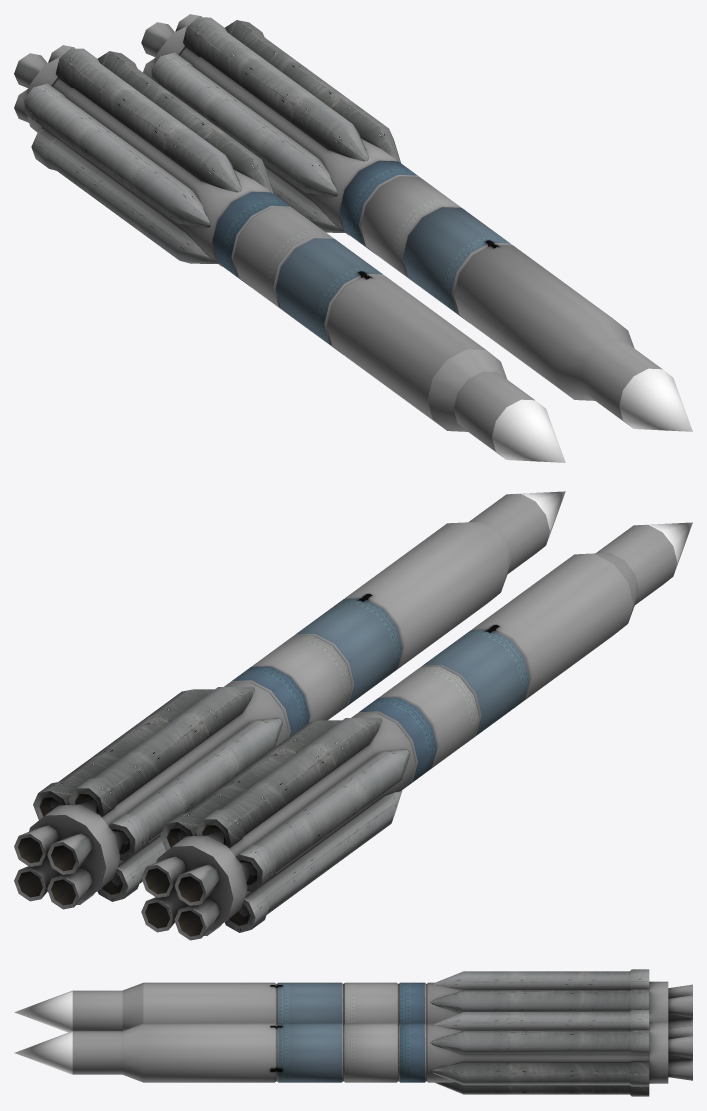
File: rocket.fbx
3 renders of one model, top to bottom at view 1: azimuth 30°, elevation 25°; view 2: azimuth 150°, elevation 25°; view 3: azimuth 270°, elevation 25°, orthographic. The views are drawn at different scales.
Visible parts, largest first — view 1: rocket, rocket.002, rocket.011, rocket.010, rocket.008, rocket.003, rocket.005, rocket.006, rocket.004, rocket.007, rocket.009; view 2: rocket, rocket.002, rocket.010, rocket.011, rocket.008, rocket.009, rocket.005, rocket.006, rocket.003, rocket.007; view 3: rocket, rocket.011, rocket.010, rocket.003, rocket.005, rocket.008, rocket.006, rocket.007, rocket.009, rocket.004.
Boxes of the visible parts, x1,y1,x2,y2 form: rocket: (141,14,692,431); rocket.002: (24,83,221,266); rocket.011: (55,48,273,193); rocket.010: (327,275,485,428); rocket.008: (27,56,384,354); rocket.003: (453,371,565,462); rocket.005: (275,238,382,353); rocket.006: (233,207,331,316); rocket.004: (427,349,507,431); rocket.007: (212,191,289,285); rocket.009: (14,45,74,122); rocket: (14,491,565,909); rocket.002: (204,749,410,935); rocket.010: (474,553,633,707); rocket.011: (160,718,381,851); rocket.008: (172,627,532,927); rocket.009: (141,846,233,940); rocket.005: (423,629,529,744); rocket.006: (381,666,479,774); rocket.003: (596,522,692,604); rocket.007: (359,697,436,789); rocket: (14,1010,692,1096); rocket.011: (430,969,649,1012); rocket.010: (143,982,274,1023); rocket.003: (14,990,122,1032); rocket.005: (278,982,341,1023); rocket.008: (275,981,668,1024); rocket.006: (345,982,396,1023); rocket.007: (400,982,424,1023); rocket.009: (668,984,692,1028); rocket.004: (122,983,143,1030).
Bounding box in the file's own units: 609 × 295 × 2285.
